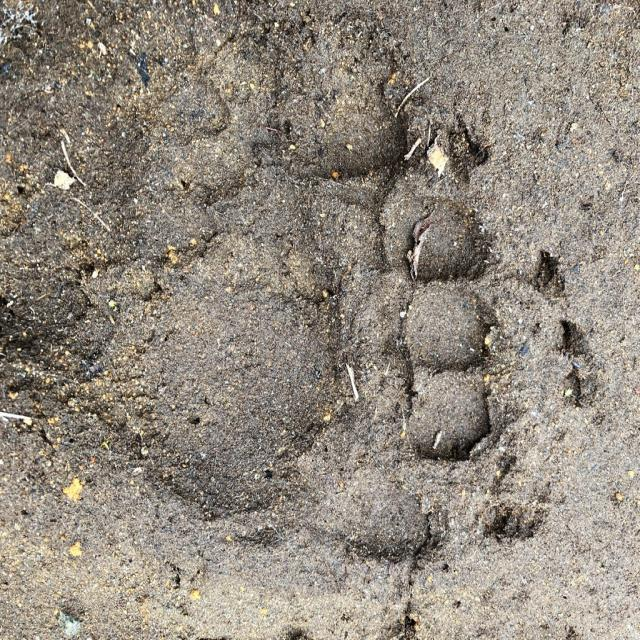bear: (90, 95, 493, 556)
